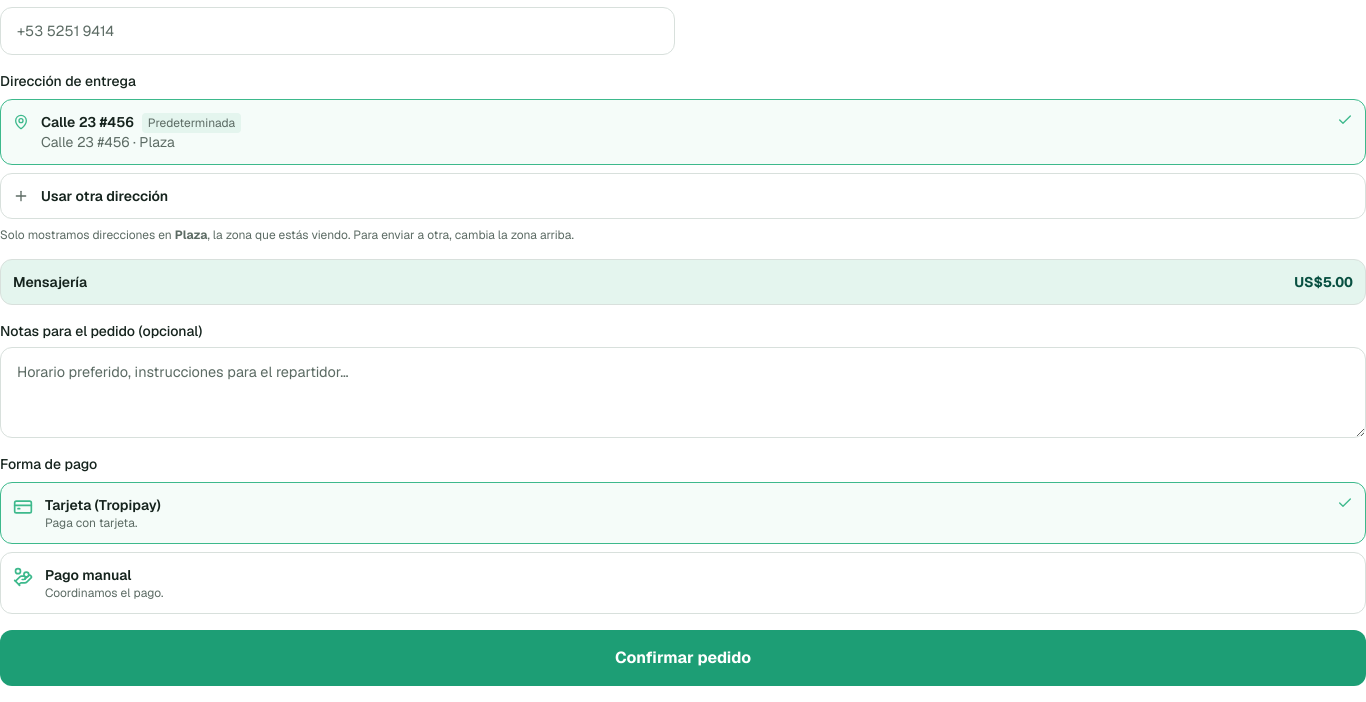
it: CheckoutForm › no deja confirmar sin los datos de quien recibe
(page scrolled)
Click the button "Confirmar pedido": [683, 658] box [0,630,1365,686]
(page scrolled)
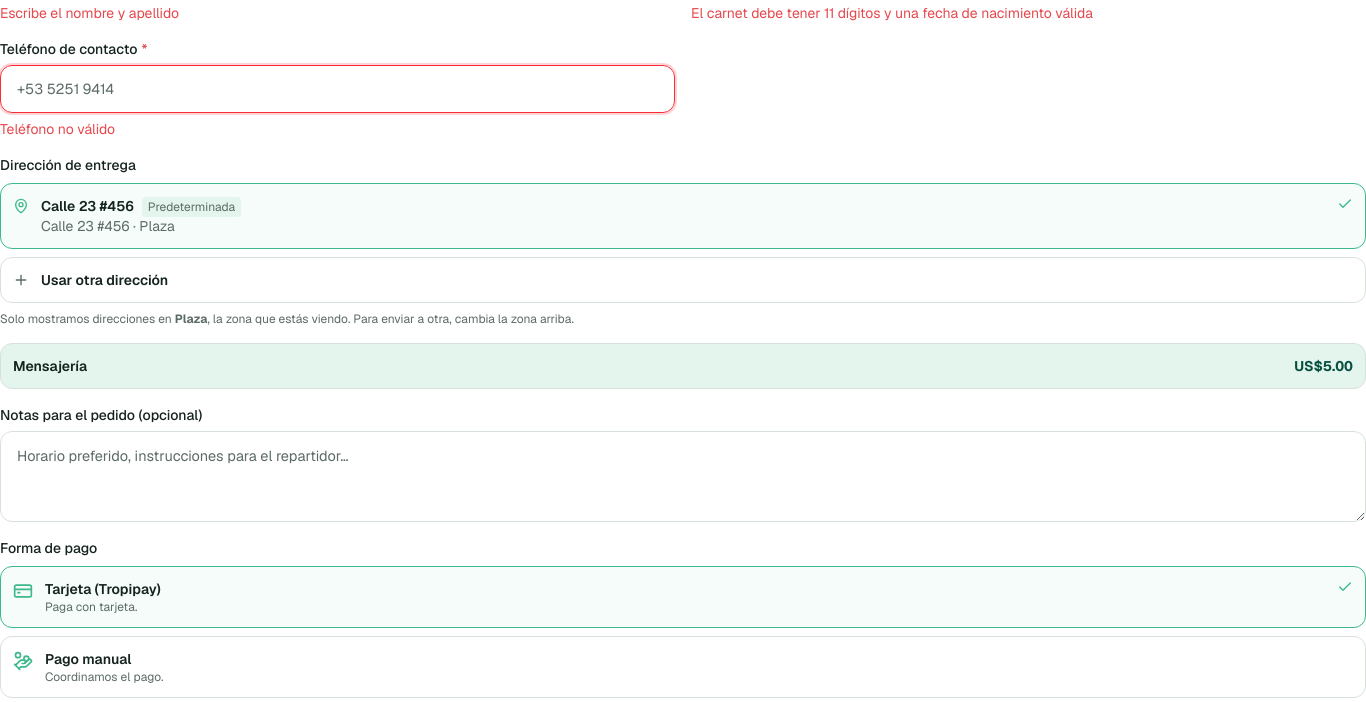
expect the text "Escribe el nombre y apellido" is shown: met, box [0,4,179,22]
